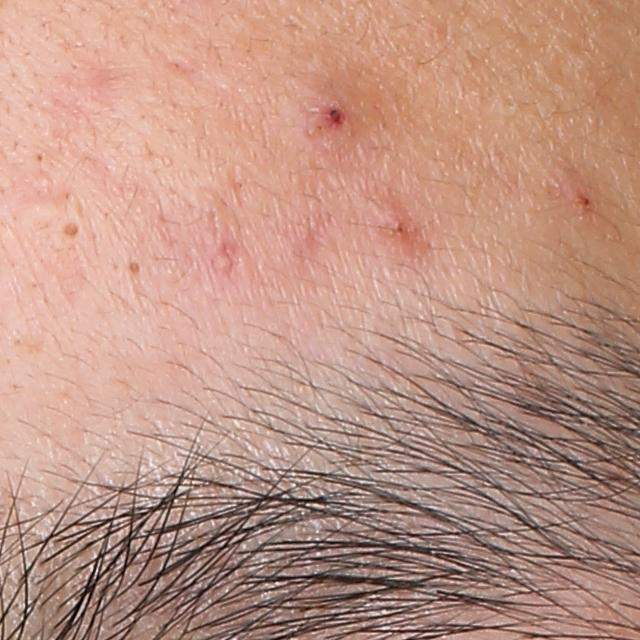comedo: (127, 260, 145, 277), (33, 148, 50, 164)
papule: (565, 163, 604, 222), (380, 207, 429, 250), (312, 94, 352, 139)
